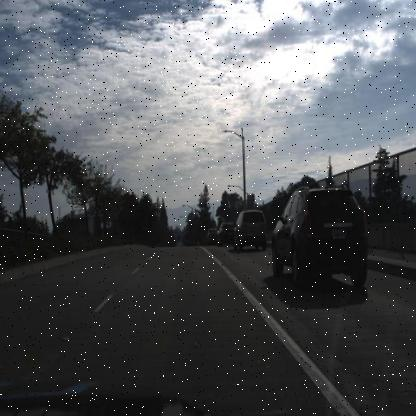car: (270, 179, 374, 291), (231, 208, 269, 251), (216, 220, 237, 244), (217, 221, 232, 245), (206, 225, 219, 245), (207, 228, 217, 247)
